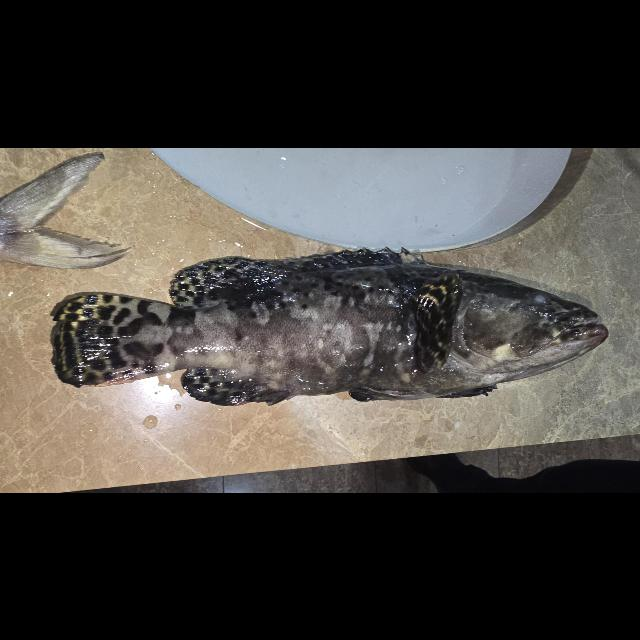Groupers: (48, 247, 610, 406)
